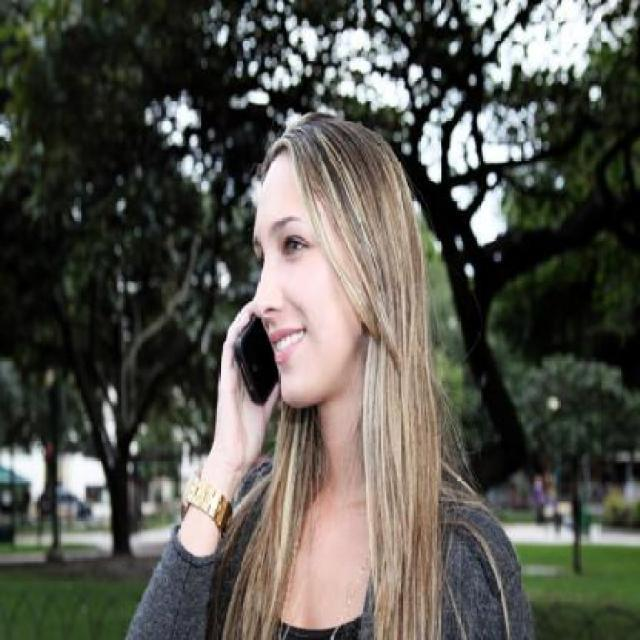phone: (234, 313, 282, 409)
